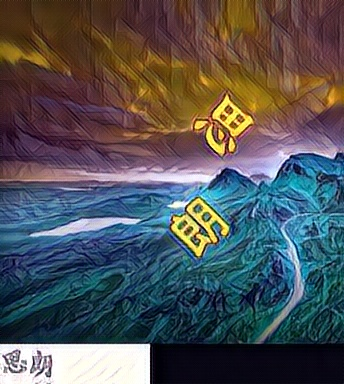C0CA: (169, 196, 231, 260)
CBBC: (192, 93, 254, 157)
